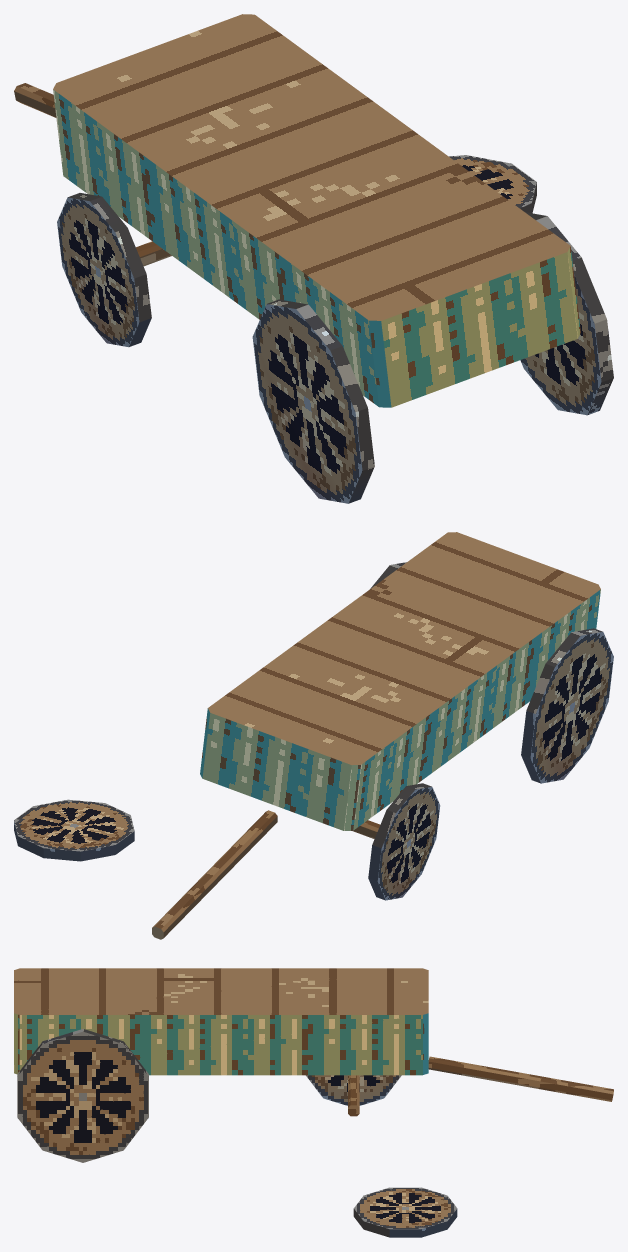
Rendered from wprop.wagon__broken.glb.
3 renders of one model, top to bottom at view 1: azimuth 30°, elevation 25°; view 2: azimuth 150°, elevation 25°; view 3: azimuth 270°, elevation 25°, orthographic. The views are drawn at different scales.
Visible parts, largest first — view 1: kit_box, kit_wheels, kit_fallen_wheel, kit_tongue; view 2: kit_box, kit_wheels, kit_fallen_wheel, kit_tongue; view 3: kit_box, kit_wheels, kit_fallen_wheel, kit_tongue, kit_axles.
Part boxes in pixels (left/top/right/bottom): kit_box: left=53, top=14, right=580, bottom=407; kit_wheels: left=57, top=193, right=613, bottom=503; kit_fallen_wheel: left=449, top=155, right=536, bottom=213; kit_tongue: left=14, top=83, right=56, bottom=117; kit_box: left=200, top=532, right=600, bottom=830; kit_wheels: left=368, top=562, right=613, bottom=900; kit_fallen_wheel: left=14, top=799, right=134, bottom=861; kit_tongue: left=152, top=810, right=277, bottom=939; kit_box: left=14, top=968, right=428, bottom=1075; kit_wheels: left=17, top=1029, right=401, bottom=1162; kit_fallen_wheel: left=353, top=1187, right=457, bottom=1237; kit_tongue: left=428, top=1056, right=613, bottom=1101; kit_axles: left=348, top=1075, right=359, bottom=1116.
Bounding box in the file's own units: 3.08 × 1.47 × 5.21.
5 materials, 5 textured.
